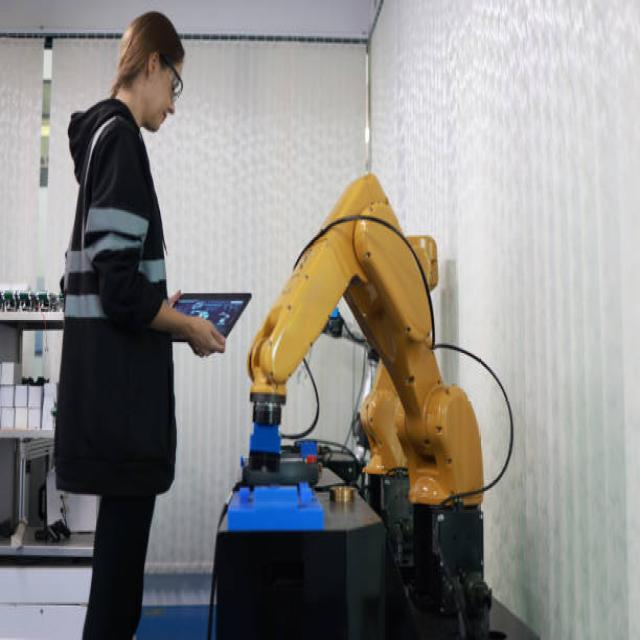Robotic-arm: (246, 169, 489, 531)
